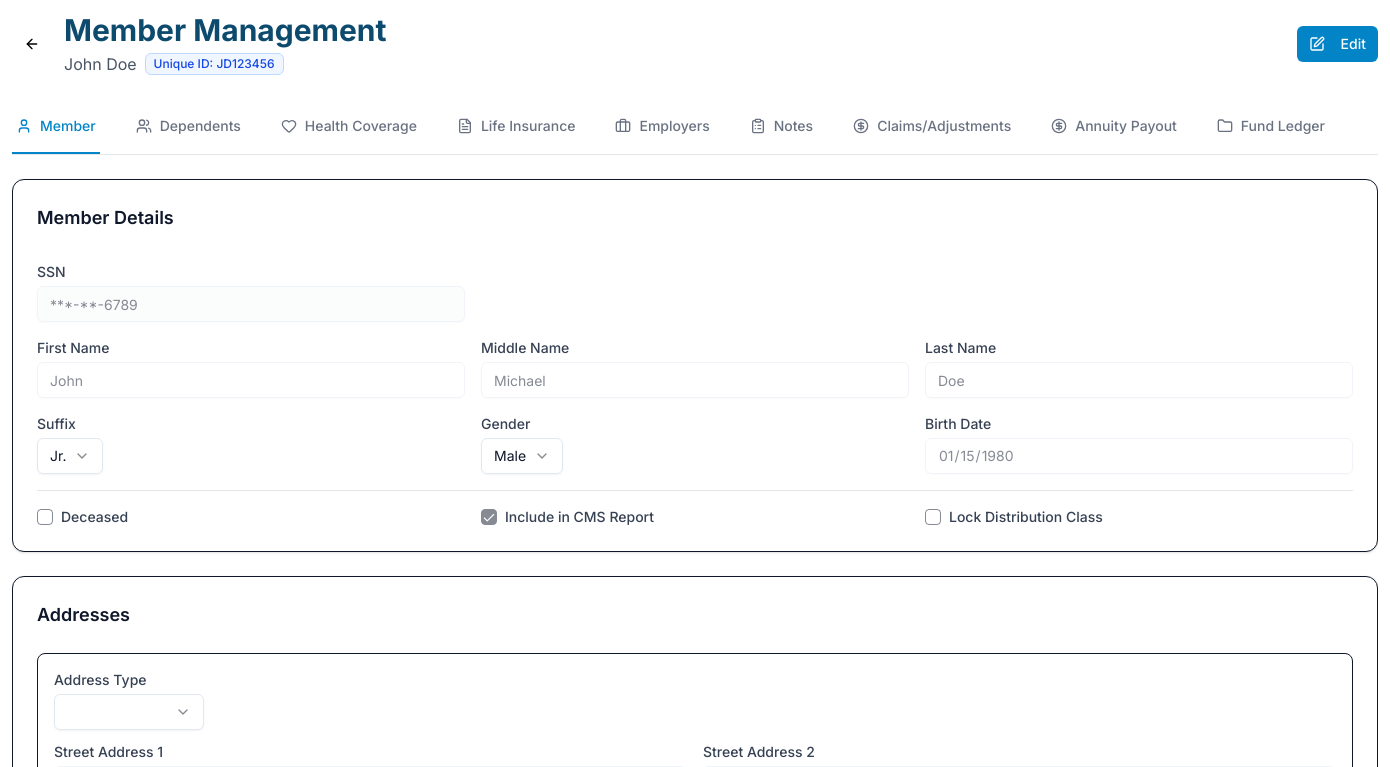
Test case: MemberDetailPage › Tab Navigation › should switch to different tabs when clicked
Switch to dependents tab
Click the button "Dependents" at (188, 127), box [132, 100, 245, 154]
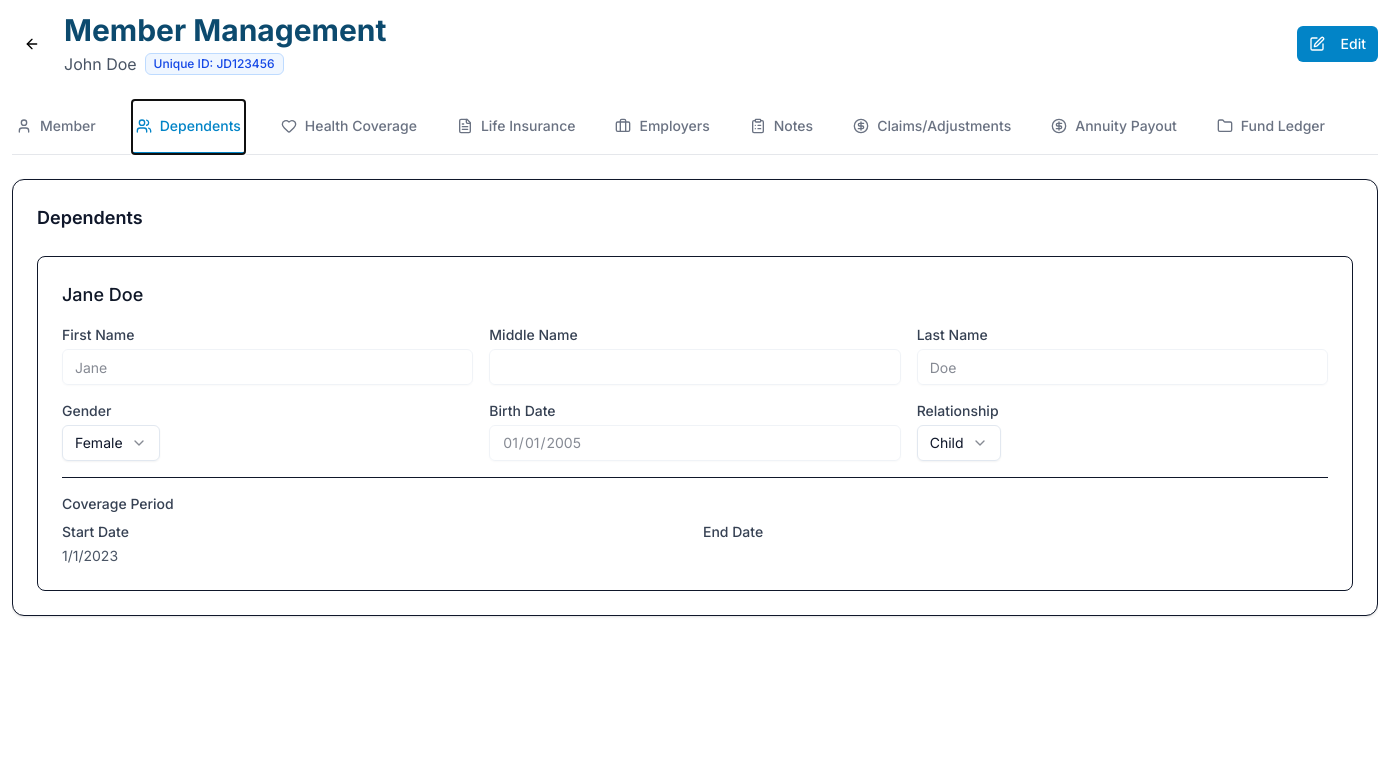
Now the heading "Jane Doe" is shown, box [62, 281, 143, 309]
Switch to notes tab
Click the button "Notes" at (781, 127), box [746, 100, 817, 154]
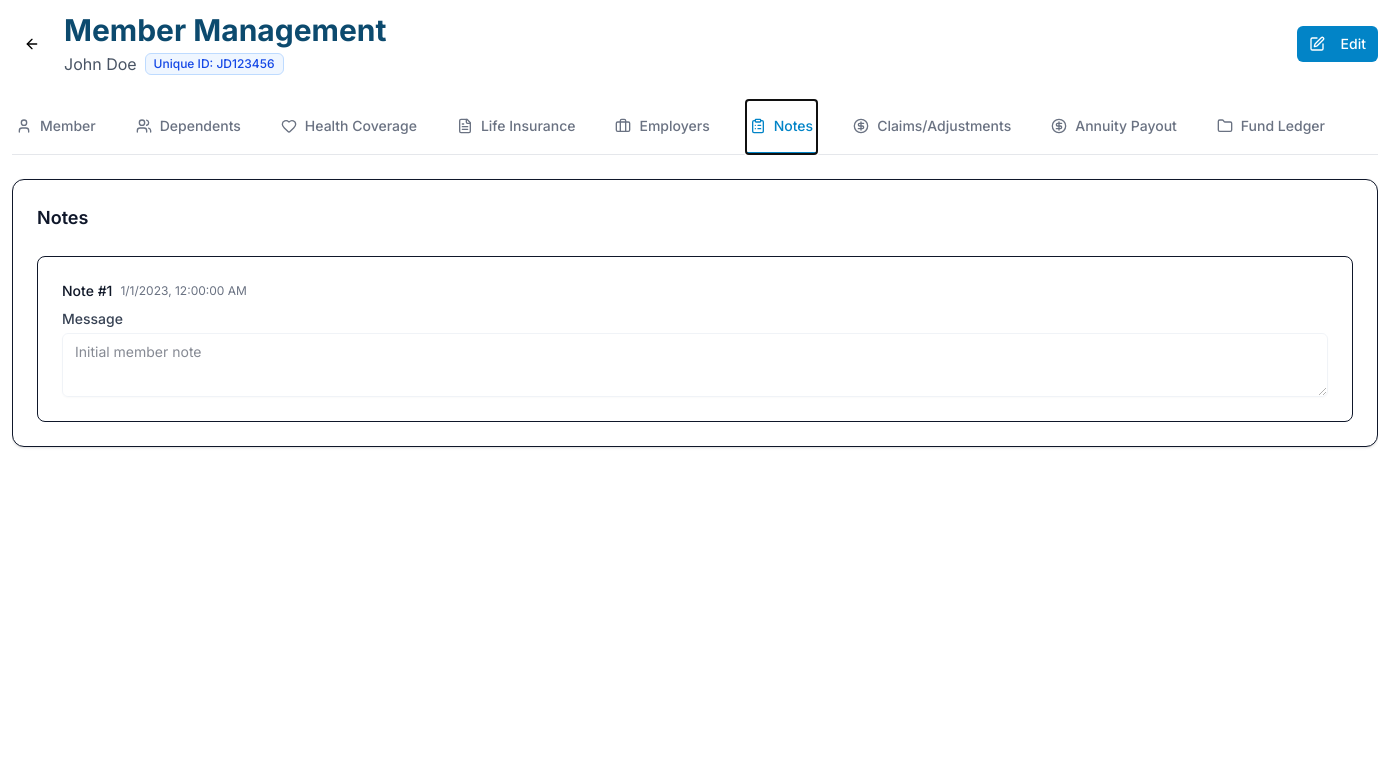
Now the text box "Initial member note" is shown, box [62, 333, 1328, 397]
